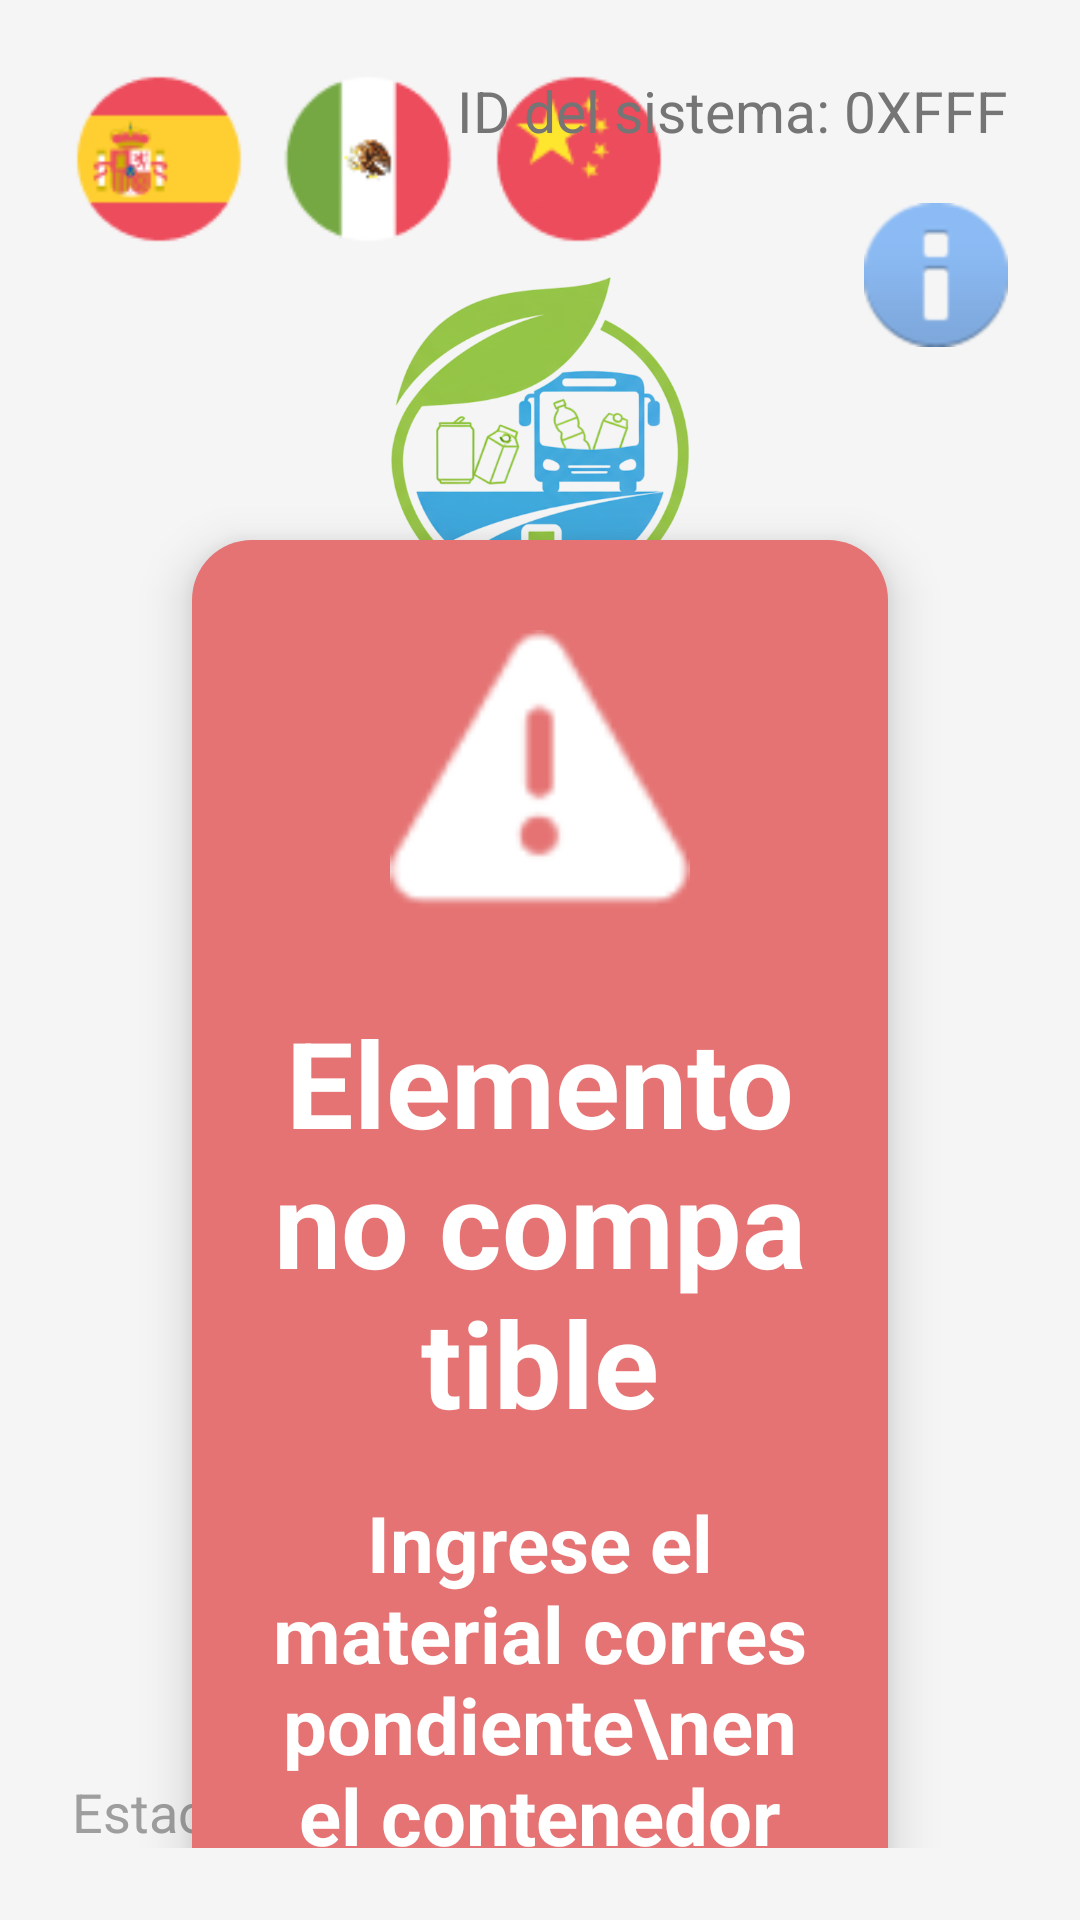

Icon click points for this 1080x1920 phone screenshot, format point (x, y):
alert: point (540, 767)
china: point (579, 159)
espania: point (159, 159)
info: point (936, 275)
mexico: point (368, 159)
